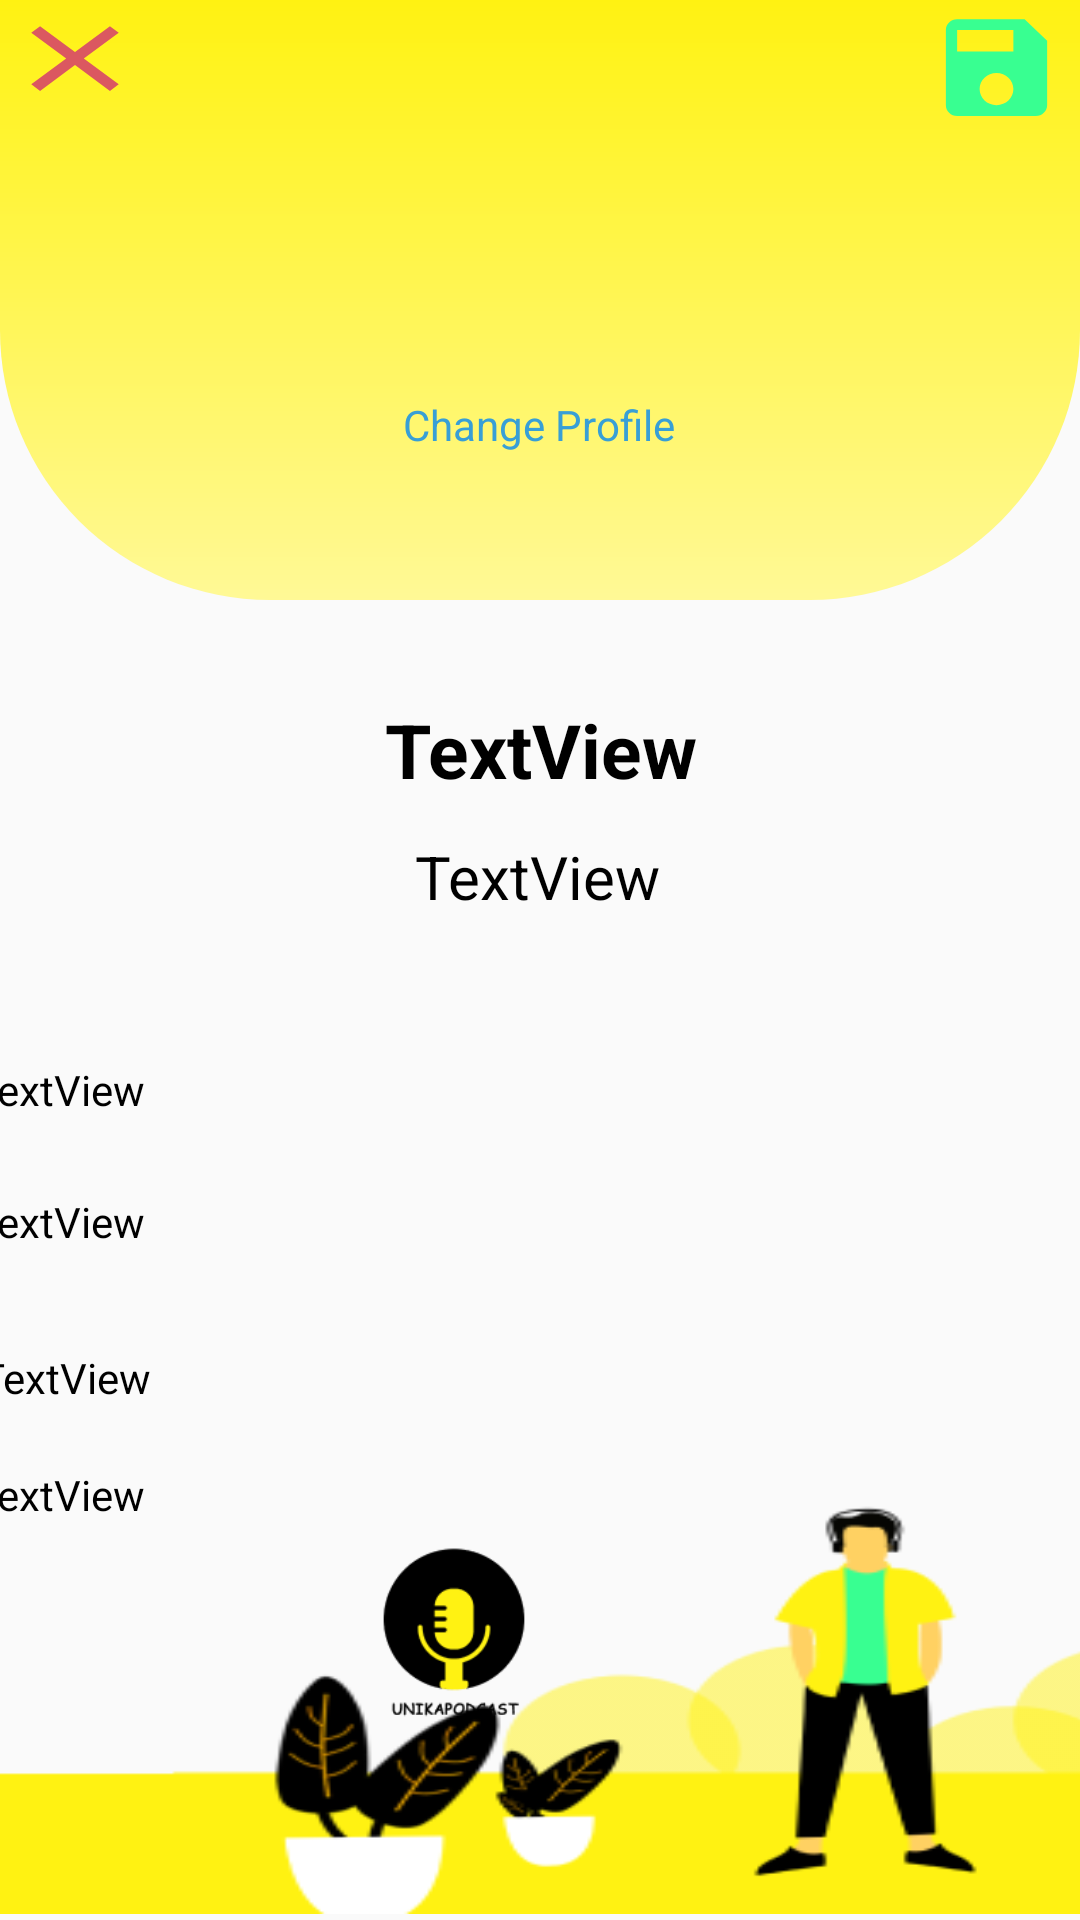

Where to tap for icons on this 1080px x 1920px app screen, as (x=x, y=y):
close: (x=75, y=70)
save: (x=996, y=75)
